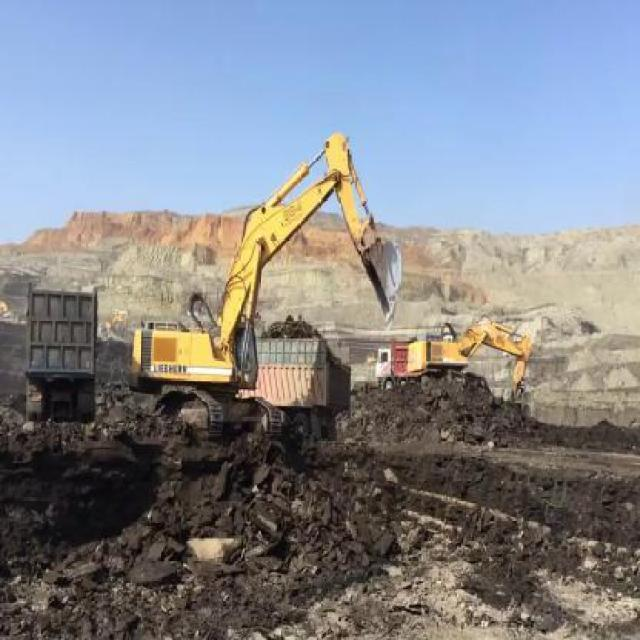dump_truck: (24, 289, 96, 413), (258, 364, 350, 430), (264, 317, 342, 361), (377, 342, 408, 383)
excavator: (126, 133, 409, 430), (405, 311, 532, 404)
